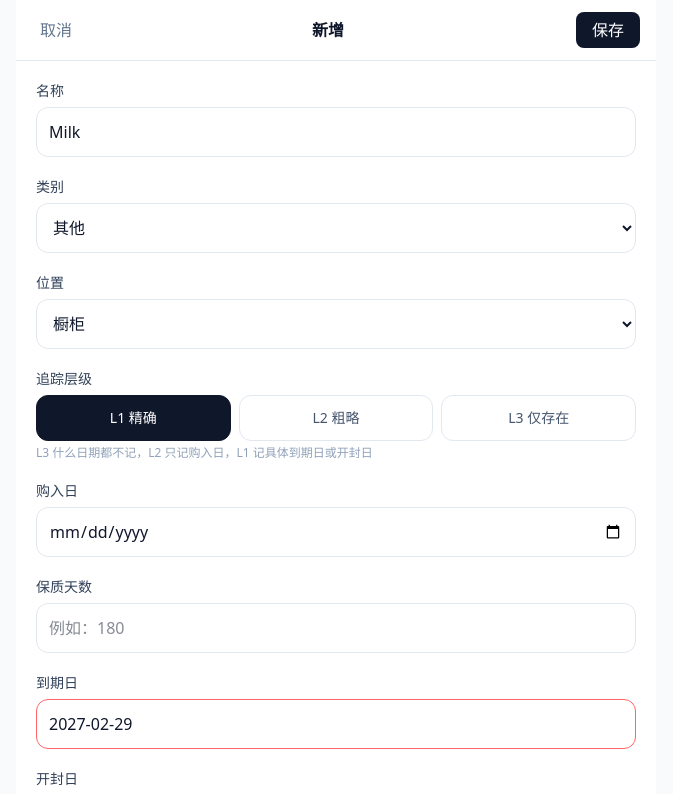
Scenario: invalid date submission prevention › still rejects the form after replacing one invalid value with another
The width and height of the screenshot is (673, 794).
Replace the text value as if pasted, without passing through a valid blank state.
Replace the text in the field labelled "到期日" with "2026-02-30" at (336, 724), box top-left (36, 699), bottom-right (636, 749)
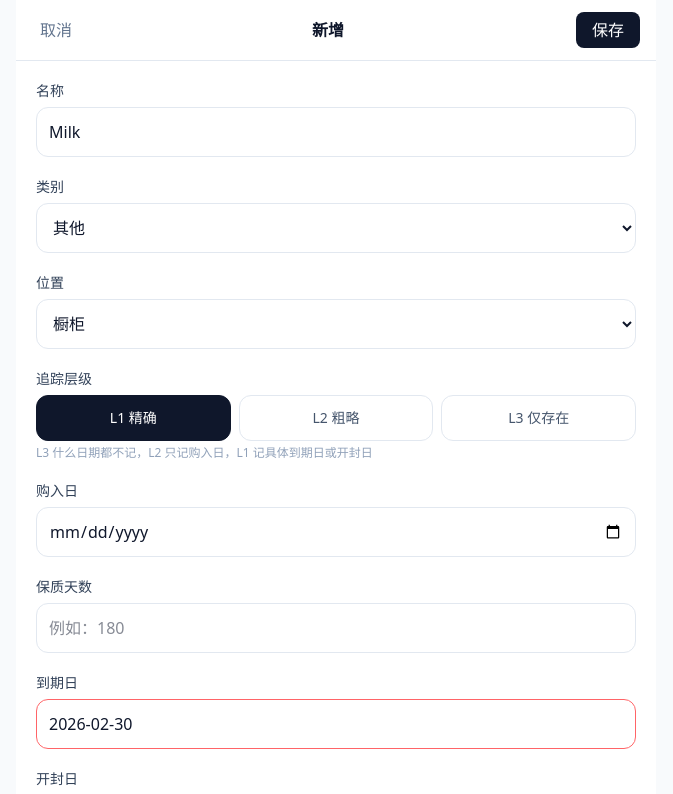
Click the button "保存" at (608, 30), box top-left (576, 12), bottom-right (640, 48)
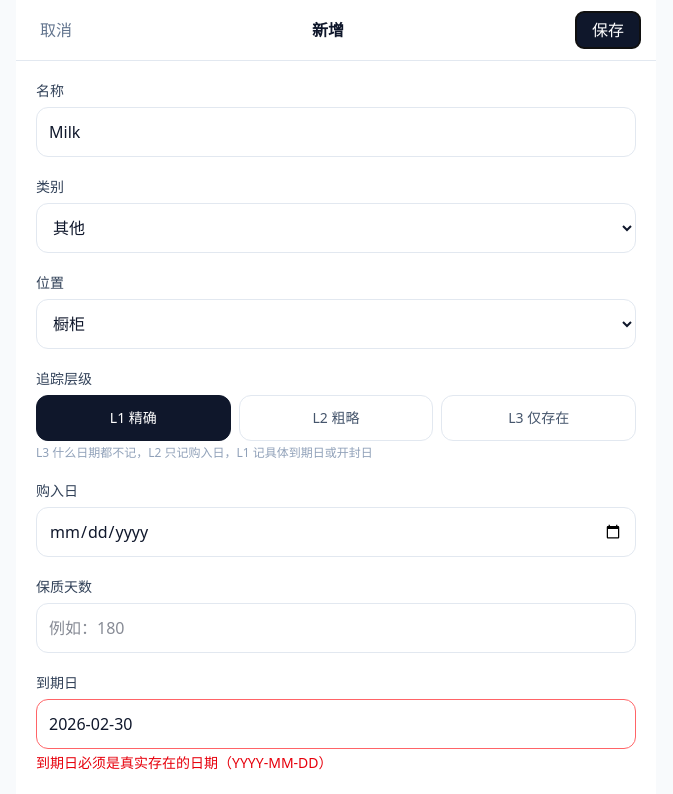
Expected: the message shows "真实存在的日期", top-left (36, 753), bottom-right (332, 772)
